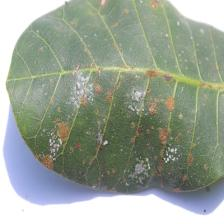red rust: (6, 0, 224, 194)
